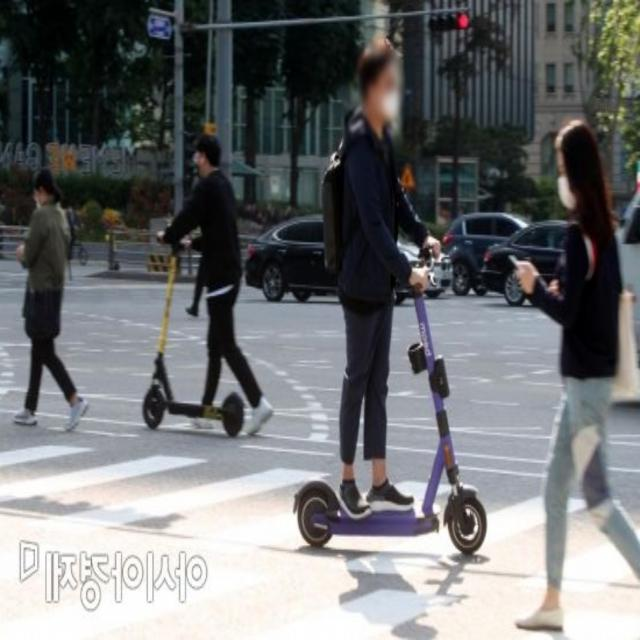bare_head: (342, 36, 411, 121)
human: (303, 33, 418, 515)
kickboard: (280, 460, 498, 571)
